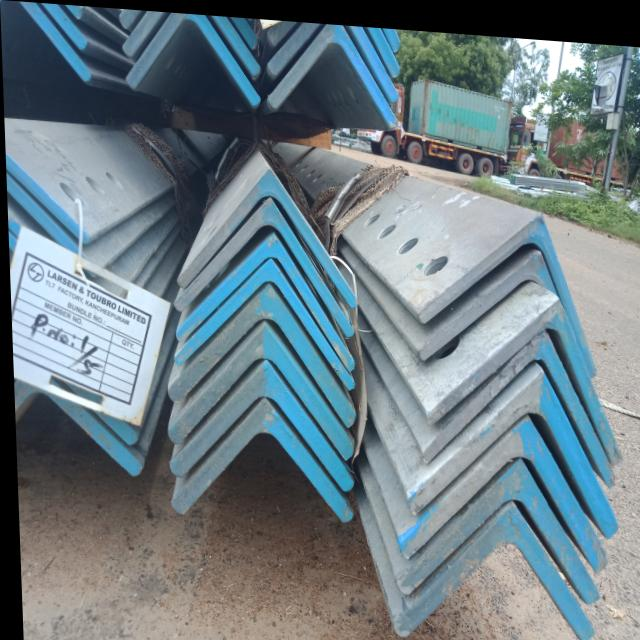metal-angles: (402, 362, 615, 528), (397, 408, 604, 564), (423, 290, 619, 454), (419, 321, 613, 477), (393, 451, 596, 596), (416, 203, 595, 367), (390, 493, 590, 632), (164, 280, 354, 423), (174, 163, 357, 304), (164, 318, 351, 453), (171, 193, 352, 332), (174, 228, 353, 365), (171, 253, 352, 387), (166, 357, 350, 486), (169, 393, 349, 517), (267, 19, 396, 121), (126, 10, 261, 101)
